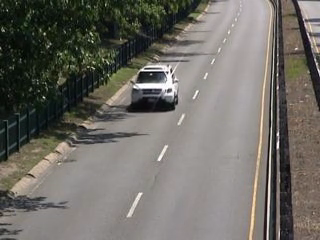car: (128, 61, 183, 116)
